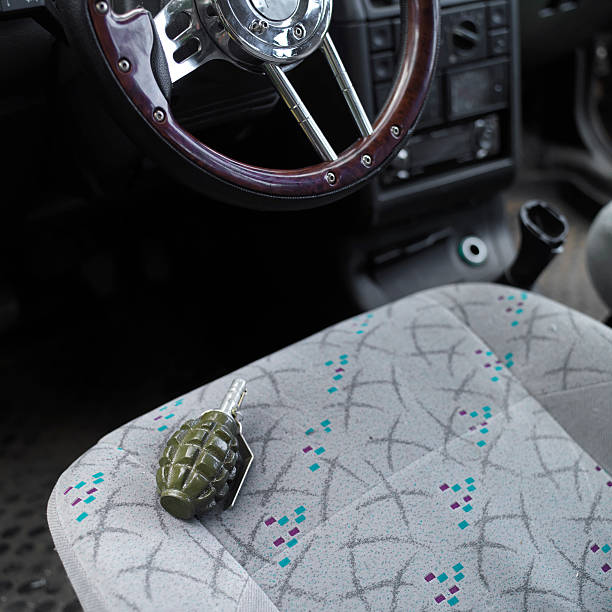e1: (158, 374, 259, 520)
